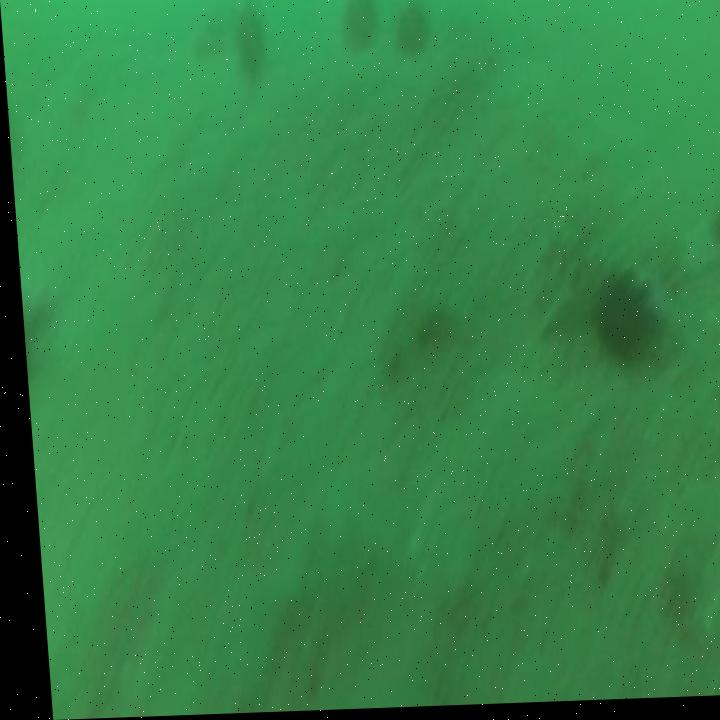echinus: (580, 261, 658, 380), (391, 0, 438, 76), (230, 6, 268, 87), (337, 0, 381, 61)
starfish: (616, 260, 673, 347)
